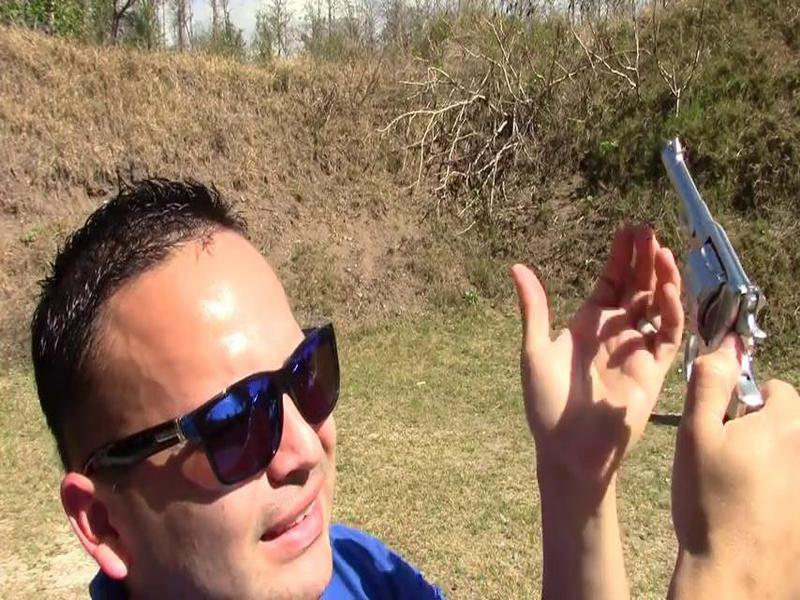Revolver: (627, 105, 799, 488)
